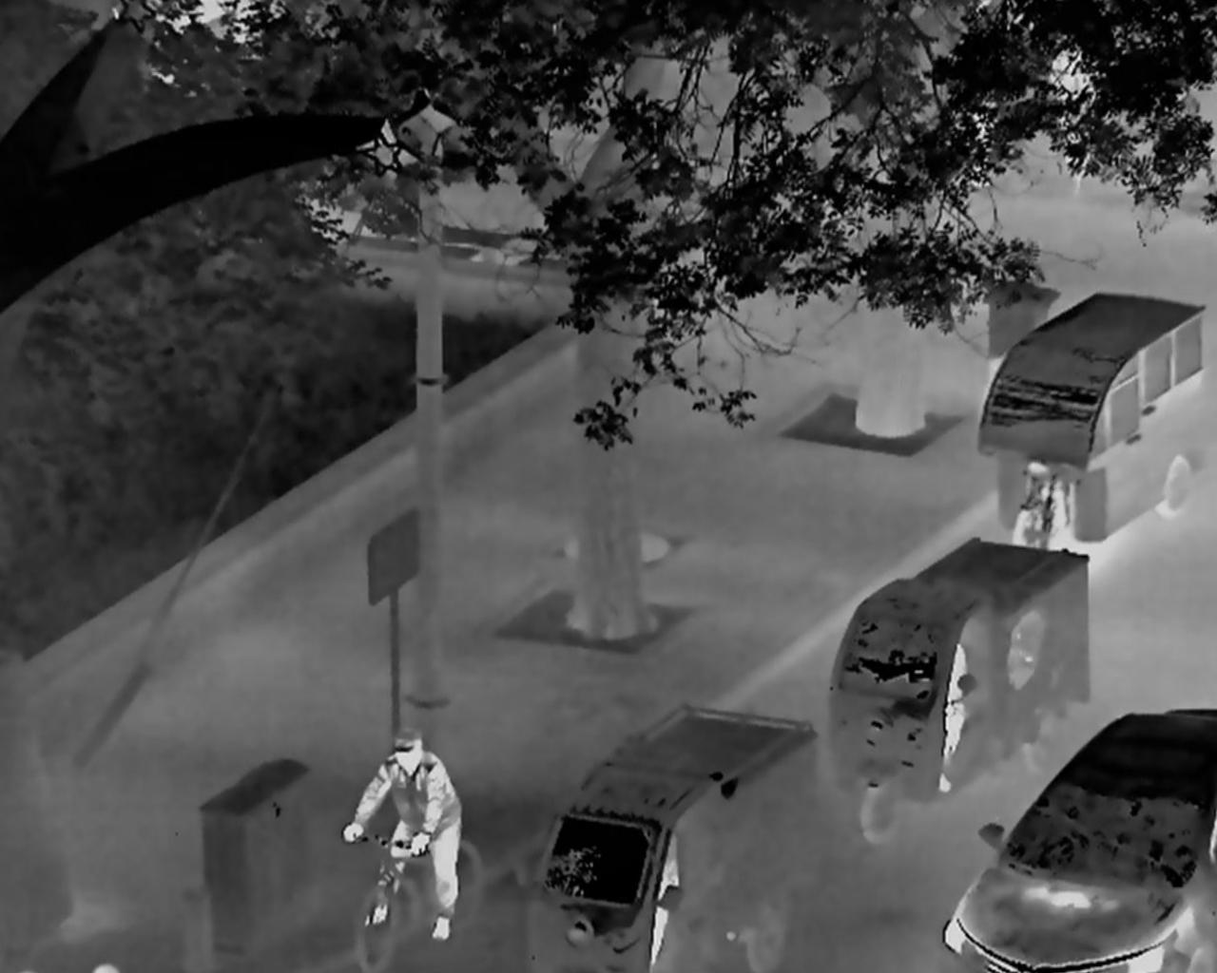person: (343, 726, 463, 941), (936, 641, 970, 793), (649, 830, 680, 972)
